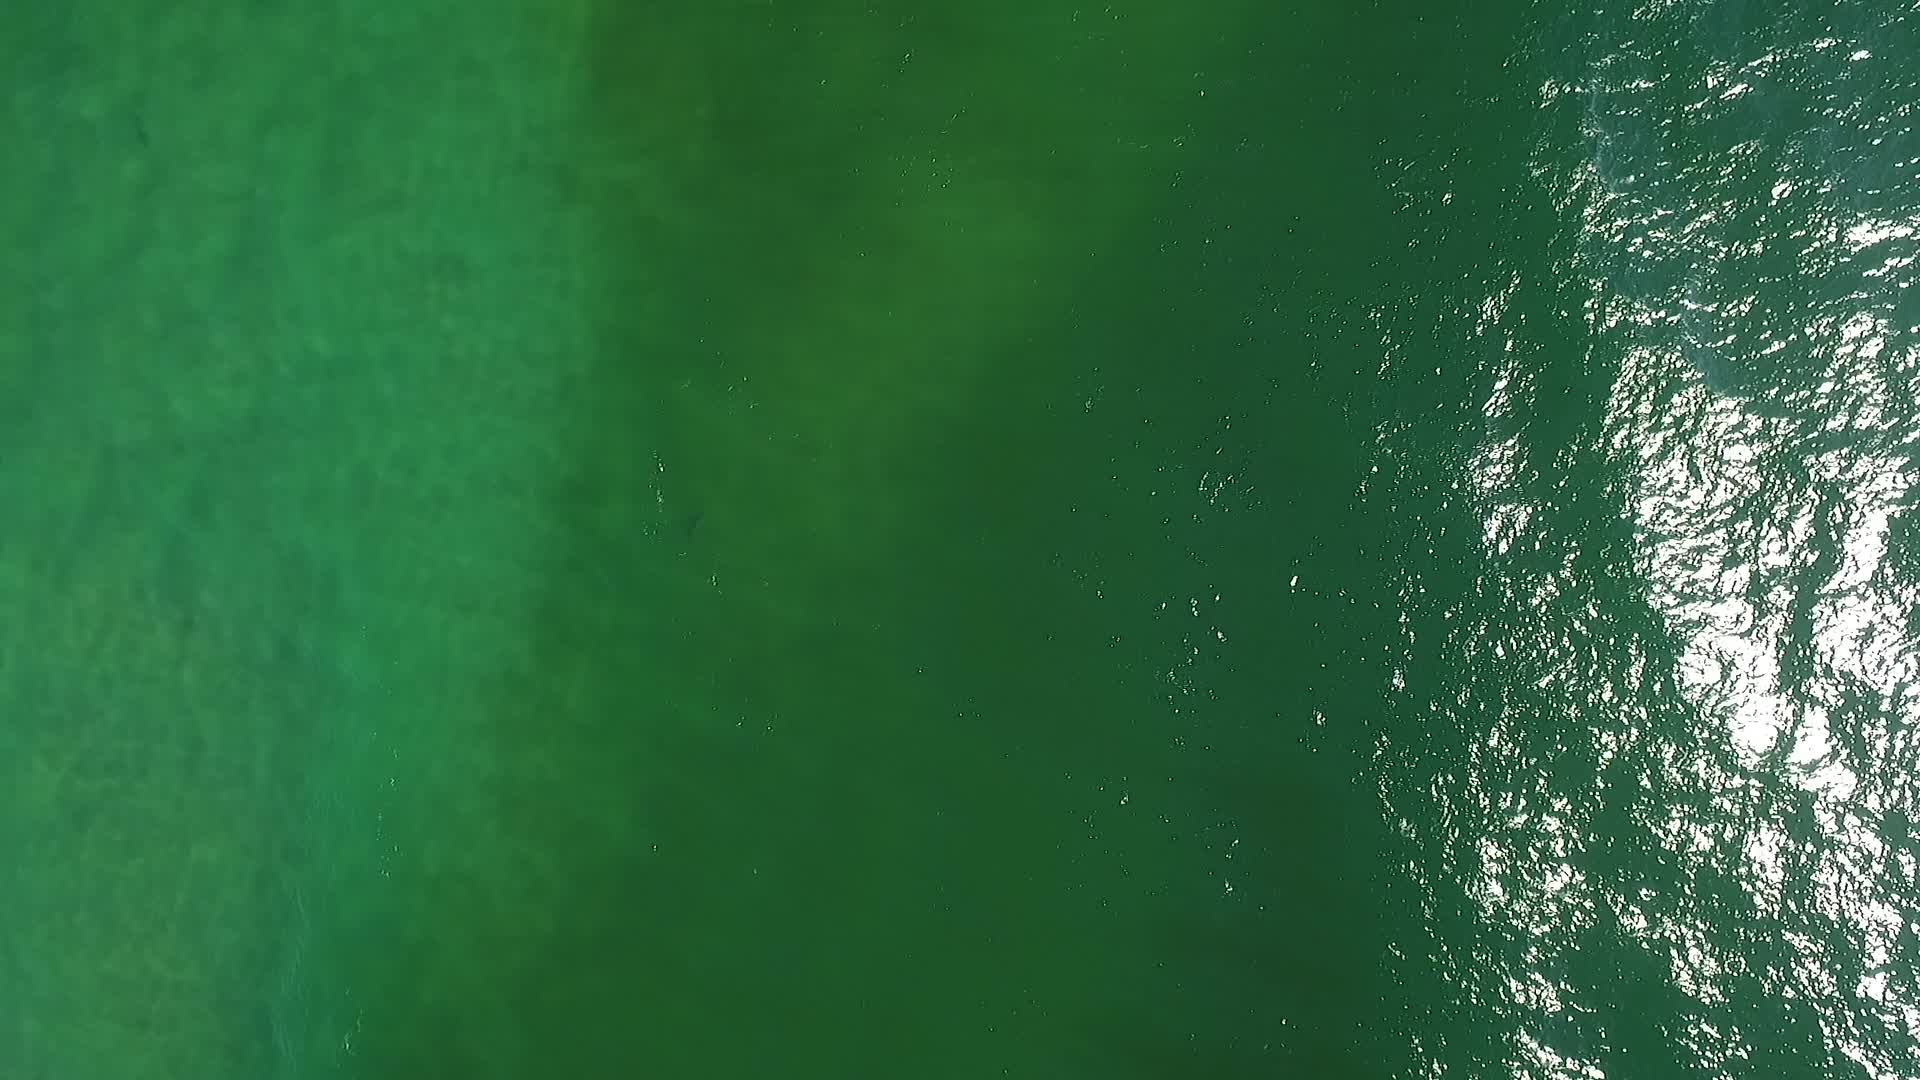shark: (680, 510, 708, 541)
